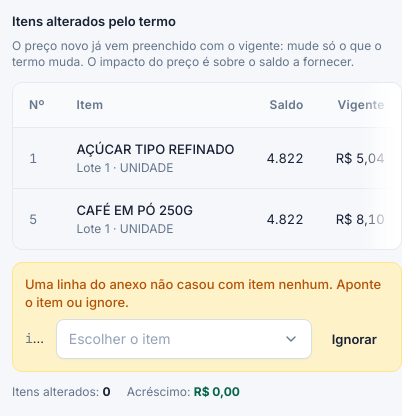
Test case: ItensDoTermo › linha que a leitura não casou pode ser ignorada
Expected: the text "Uma linha do anexo não casou" is shown, [25,276,333,292]
What coordinates should you click on to do the following:
click the button "Ignorar"
I would click on:
 (354, 338)
Its box is [320,320,389,356].
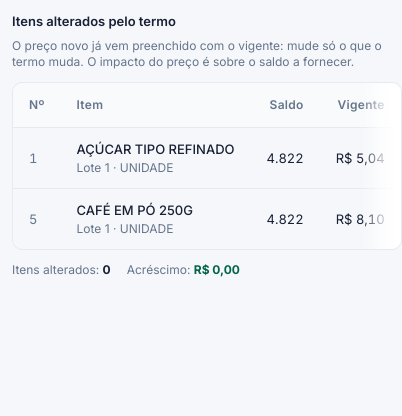
Now the text "não casou" is gone
